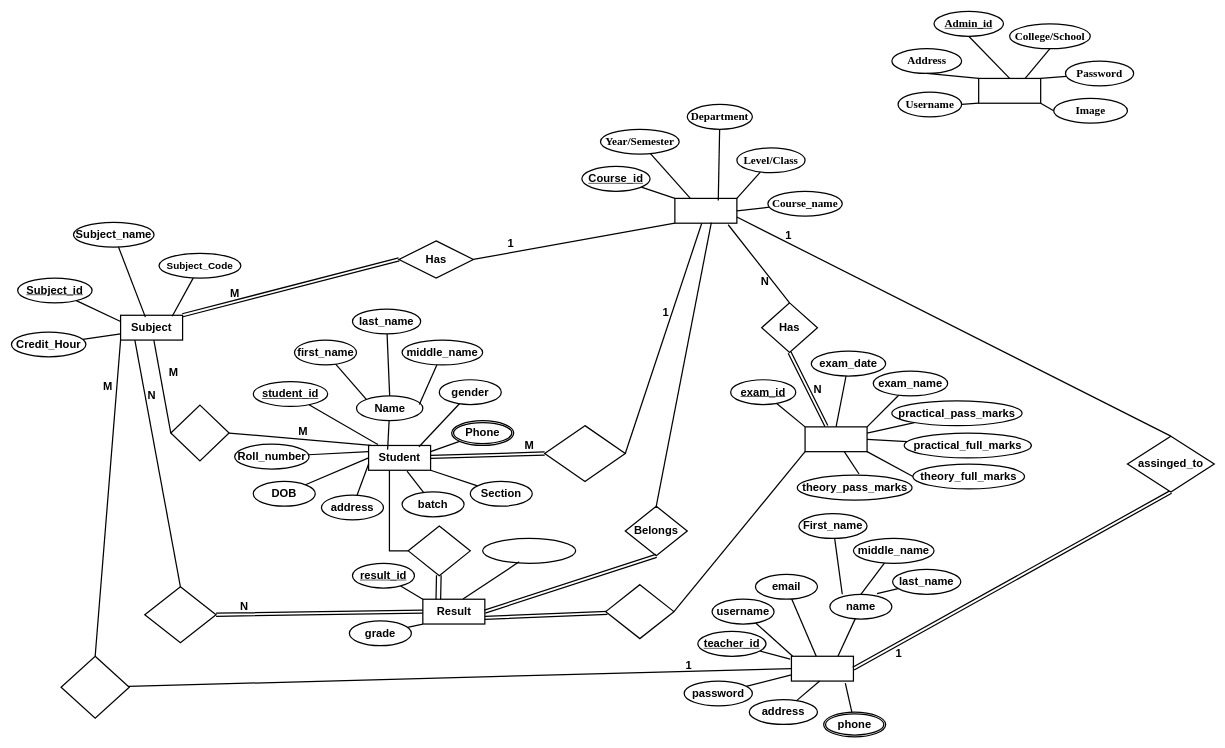
Some shapes in this 1225 by 748 pixel diagram are drawn without their labels. Here are the shapes that lost their labels. From the top down, the centre of each, then its label:
the point at 1009,91: Admin
the point at 705,210: Course
the point at 199,432: Selects
the point at 835,439: Exam
the point at 585,453: Enroll
the point at 439,550: Recived
the point at 529,551: marks_otained
the point at 180,614: evaluated
the point at 639,611: Generate
the point at 95,687: Teaches
the point at 822,668: Teacher
